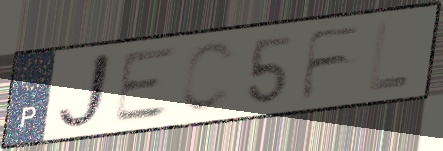5: (246, 32, 298, 106)
C: (177, 38, 240, 116)
E: (111, 43, 182, 126)
F: (297, 22, 366, 104)
J: (53, 49, 116, 133)
L: (365, 19, 414, 95)
